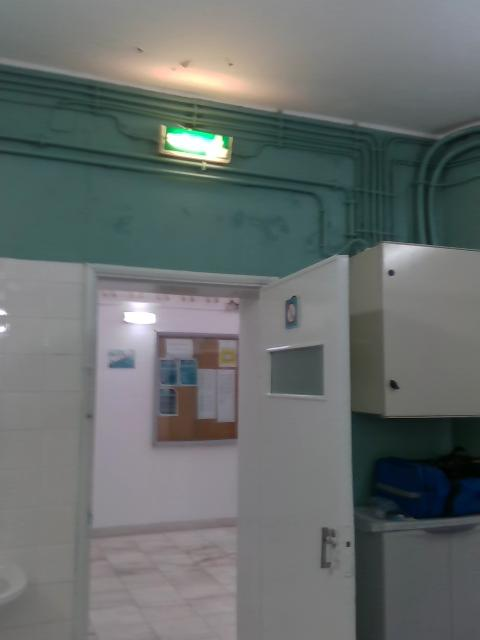open_door: (74, 261, 279, 639)
